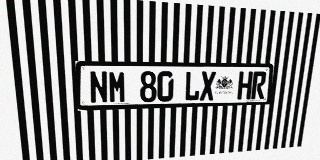0: (157, 71, 174, 102)
8: (140, 71, 157, 102)
H: (237, 71, 253, 100)
L: (184, 71, 200, 101)
M: (108, 71, 126, 103)
N: (89, 71, 108, 104)
R: (251, 71, 267, 99)
X: (199, 71, 216, 101)
